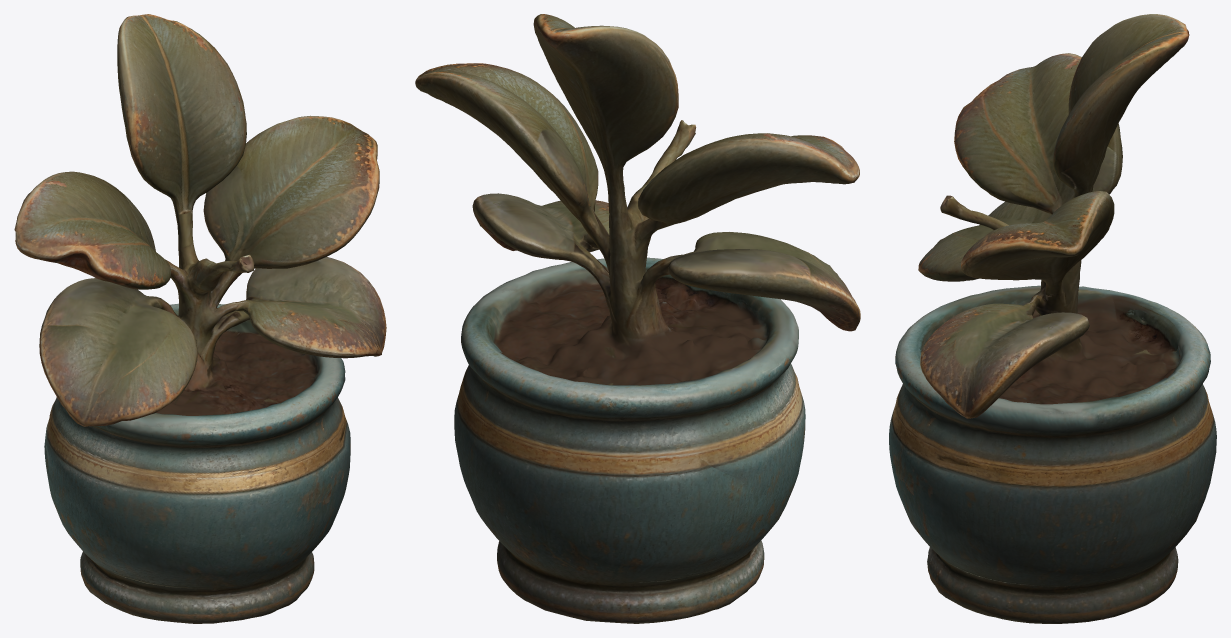
File: Prop_RubberPlant.fbx
3 renders of one model, left to right at view 1: azimuth 30°, elevation 25°; view 2: azimuth 150°, elevation 25°; view 3: azimuth 270°, elevation 25°, orthographic. The views are drawn at different scales.
Visible parts, largest first — view 1: texture_mapping; view 2: texture_mapping; view 3: texture_mapping.
Boxes of the visible parts, box(x1,y1,x2,y2) form: texture_mapping: box(14, 14, 386, 623); texture_mapping: box(415, 14, 860, 623); texture_mapping: box(889, 14, 1216, 623).
Size of the model in its own units: 0.7391 by 0.5401 by 0.9987.
Materials: 1 (1 with a texture image).
